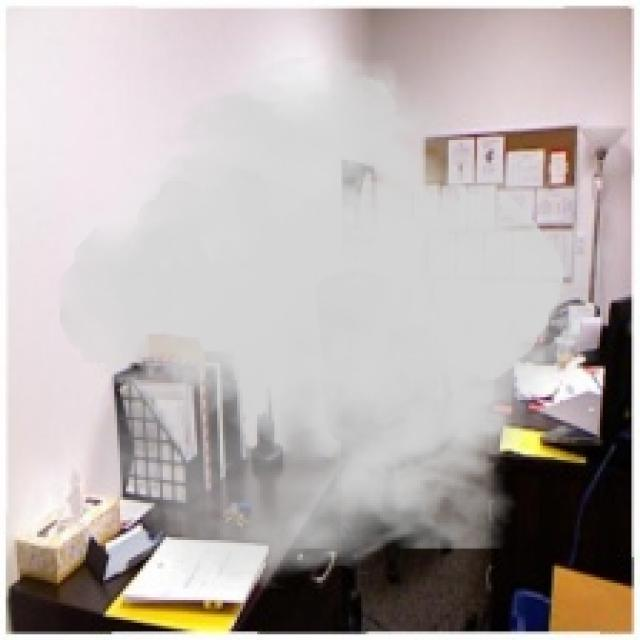Smoke: (57, 48, 620, 598)
